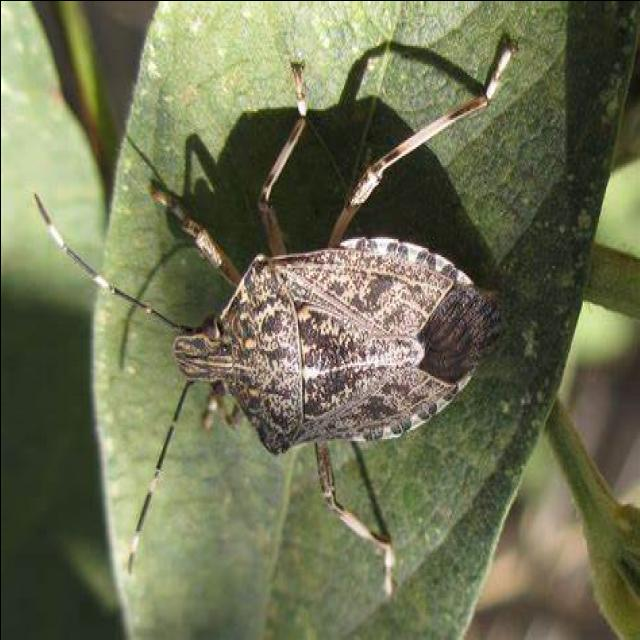stink_bug: (27, 43, 539, 602)
